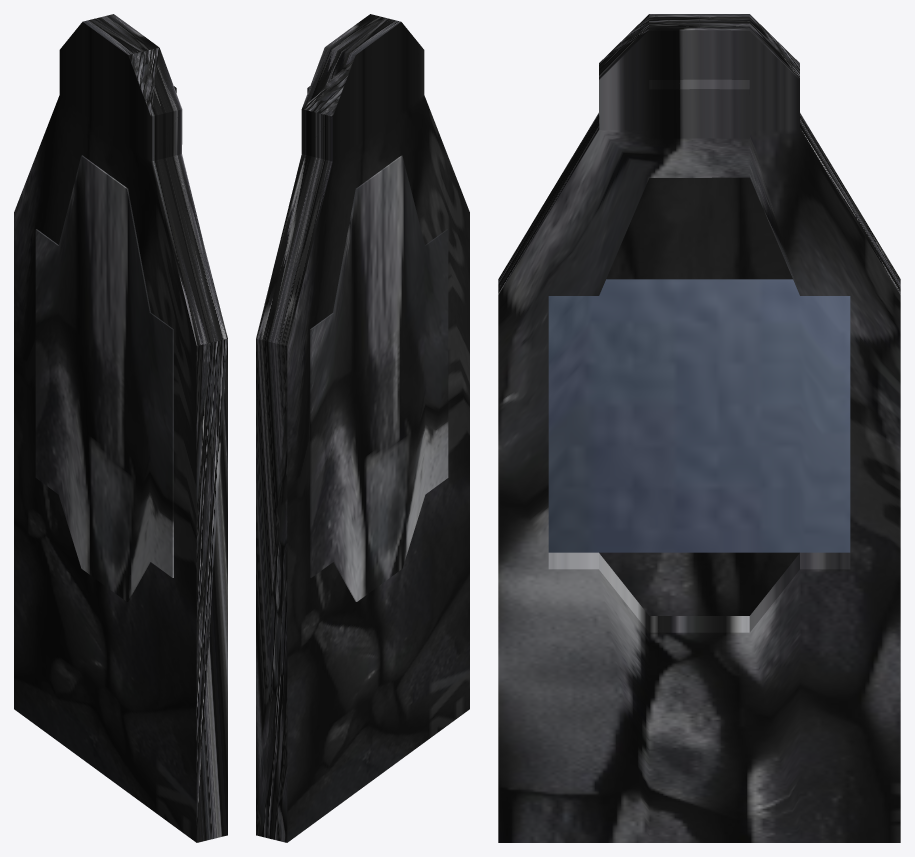
The model's file is window.glb.
3 views of the same model, side by side, from view 1: azimuth 30°, elevation 25°; view 2: azimuth 150°, elevation 25°; view 3: azimuth 270°, elevation 25° (orthographic). The views are drawn at different scales.
Visible parts, largest first — view 1: Cube; view 2: Cube; view 3: Cube, Glass.001.
Part boxes in pixels (x1=…): Cube: x1=14, y1=14, x2=227, y2=842; Cube: x1=256, y1=14, x2=469, y2=842; Cube: x1=498, y1=14, x2=900, y2=842; Glass.001: x1=548, y1=279, x2=850, y2=552.
Bounding box in the file's own units: 0.21 × 2.97 × 1.33.
2 materials, 2 textured.
